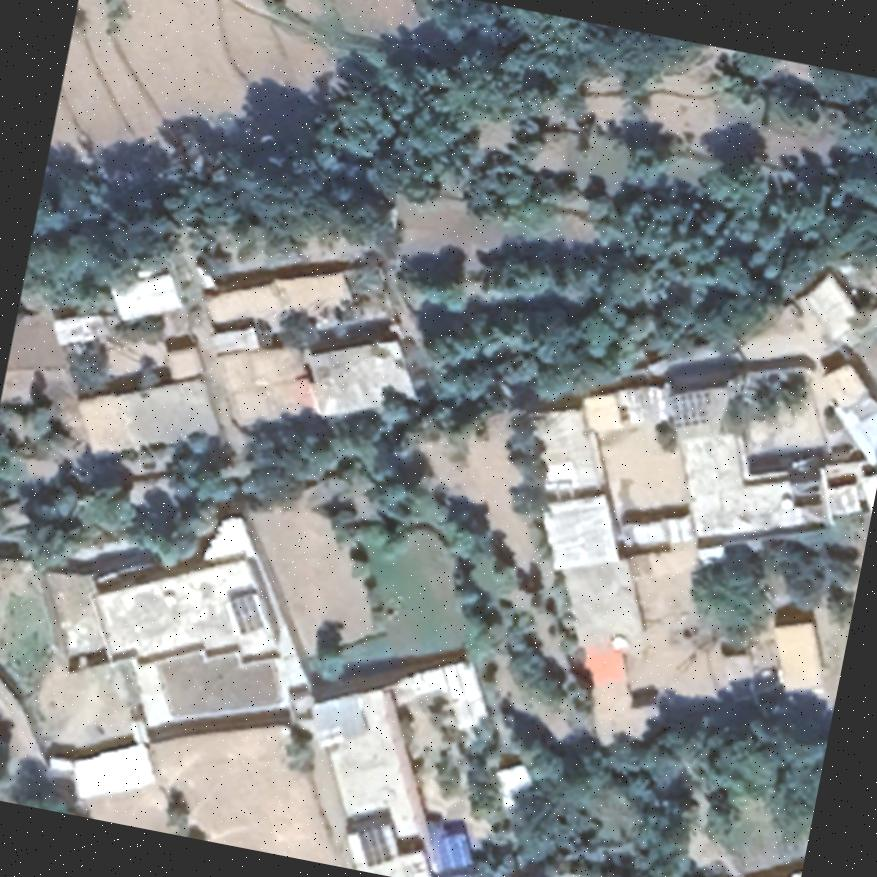Solarpanel: (221, 587, 268, 637), (350, 820, 396, 870)
